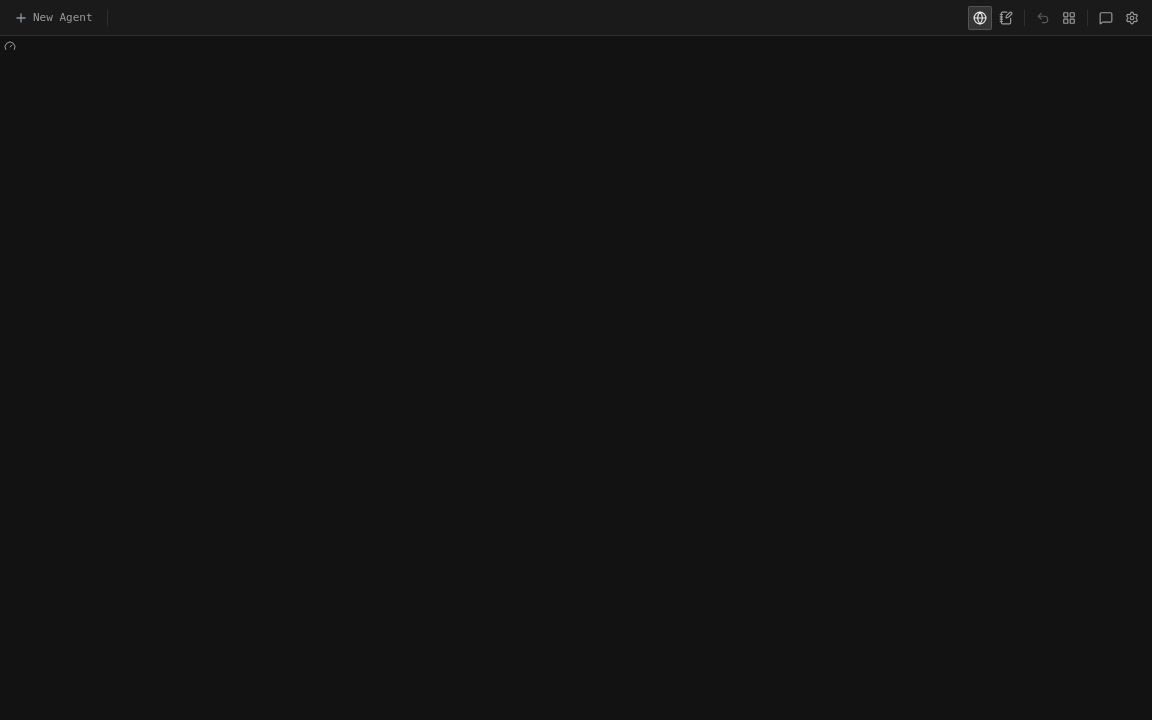
Scenario: Header overlay interactions › Usage dismisses on outside interaction
Click the button named "Usage" at (10, 46), box [0,36,20,56]
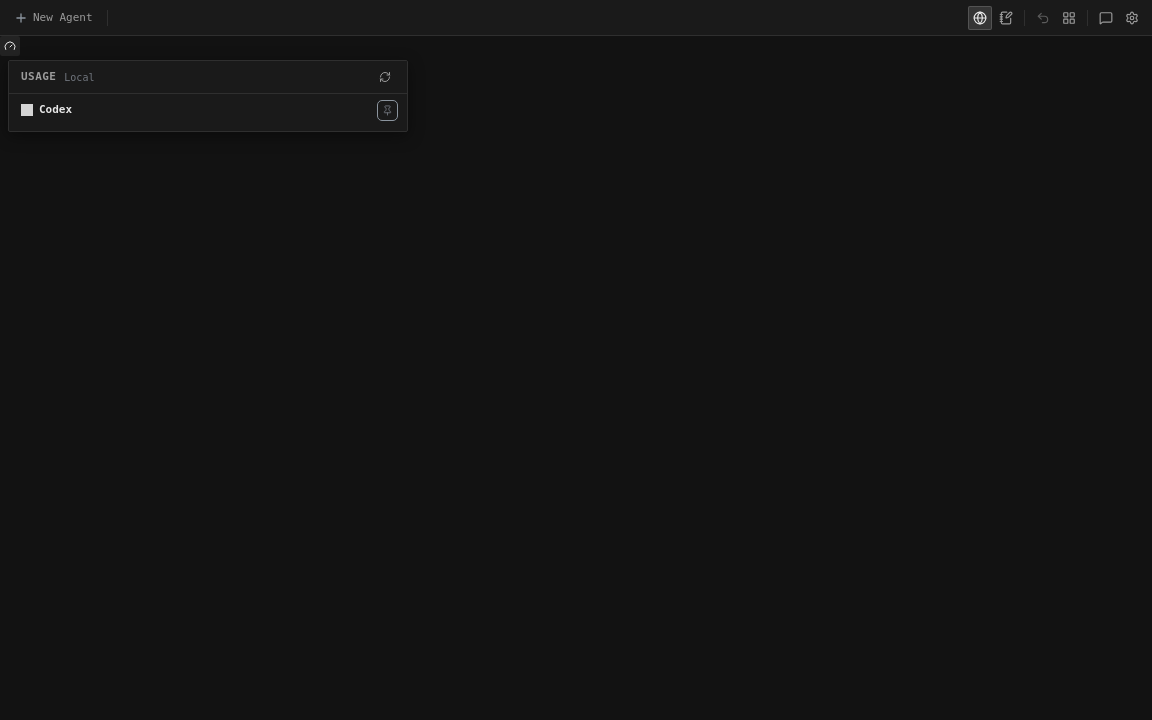
Click the button named "Fit all panes" at (1069, 18), box [1057,6,1081,30]
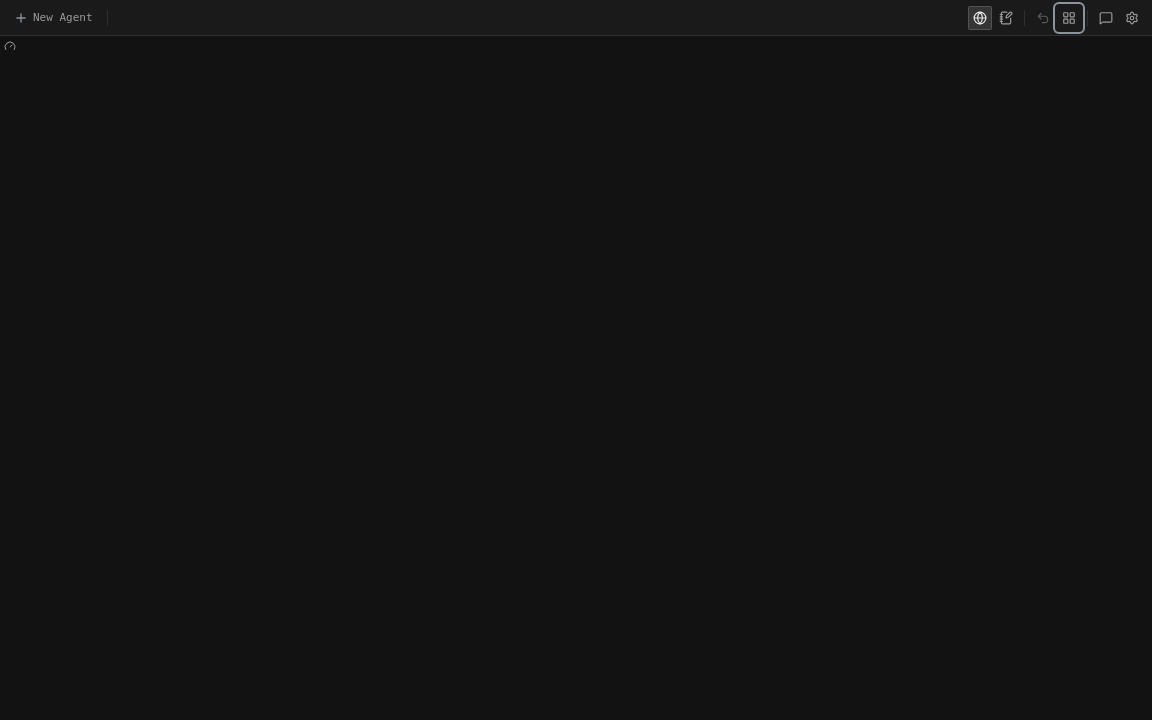
Expected: the text "Usage" is gone
